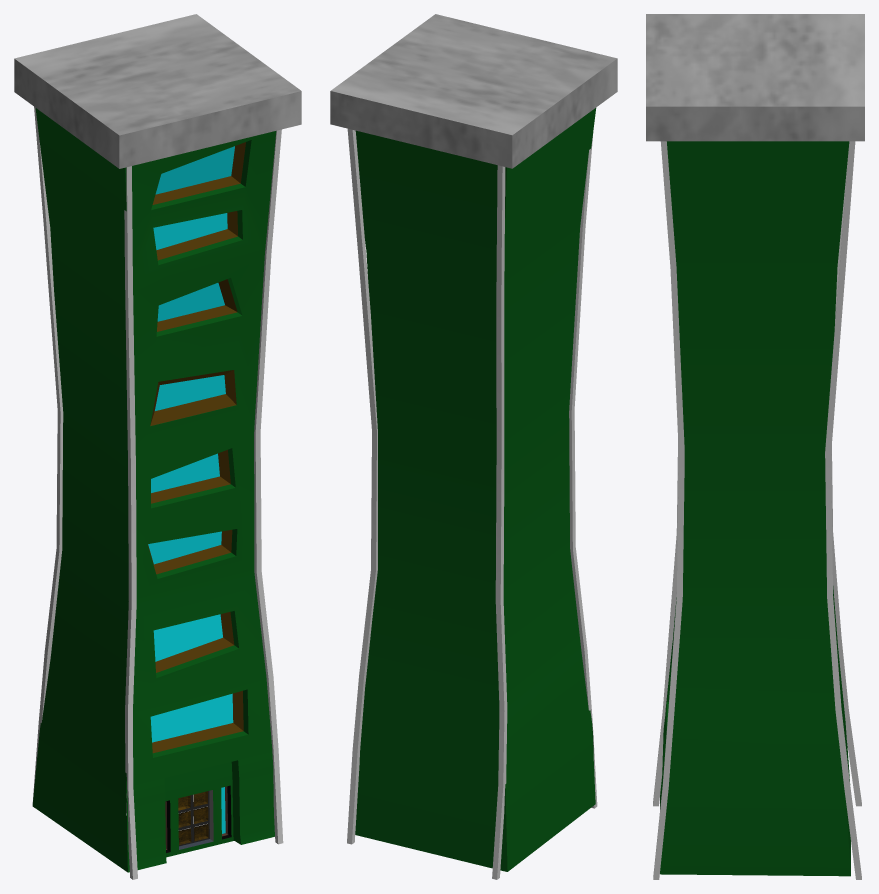
The model's file is PredioAltoFino-VerdeEscuroLOD0.fbx.
3 renders of one model, left to right at view 1: azimuth 30°, elevation 25°; view 2: azimuth 150°, elevation 25°; view 3: azimuth 270°, elevation 25°, orthographic. The views are drawn at different scales.
Visible parts, largest first — view 1: PredioAltoFinoLOD0; view 2: PredioAltoFinoLOD0; view 3: PredioAltoFinoLOD0.
Boxes of the visible parts, x1,y1,x2,y2 form: PredioAltoFinoLOD0: (14,14,301,879); PredioAltoFinoLOD0: (330,14,617,879); PredioAltoFinoLOD0: (646,14,864,879).
Bounding box in the file's own units: 635 × 2498 × 635.
